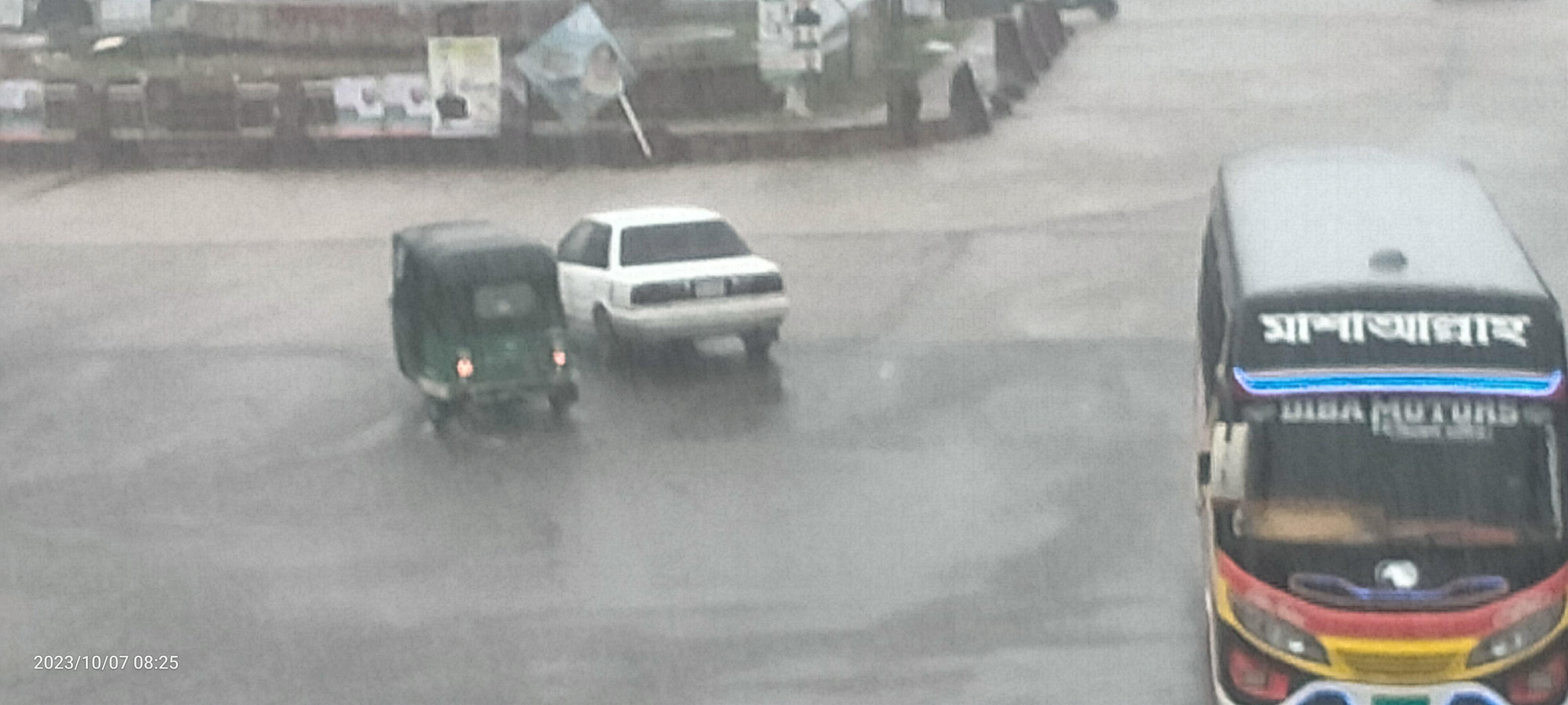Bus: (1132, 92, 1568, 705)
Car: (555, 166, 811, 392)
